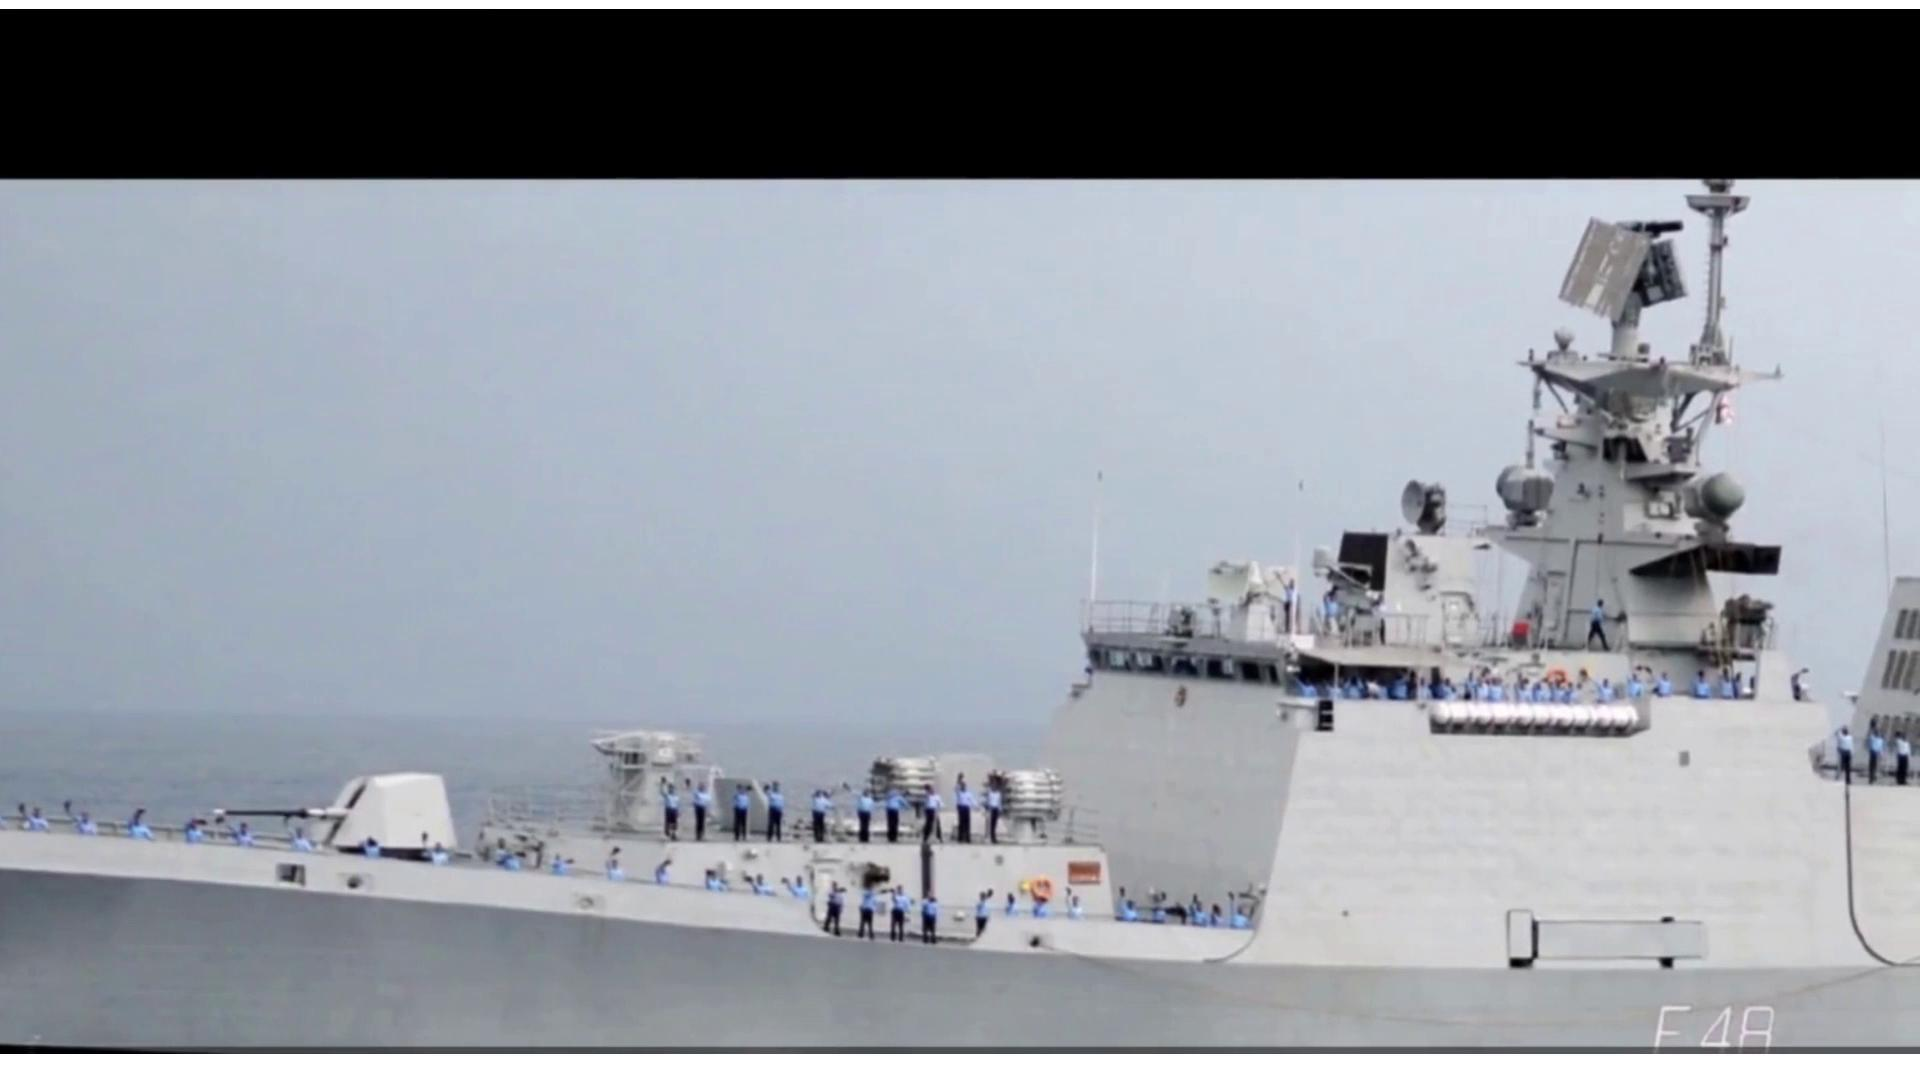OCR: (1639, 992, 1797, 1054)
